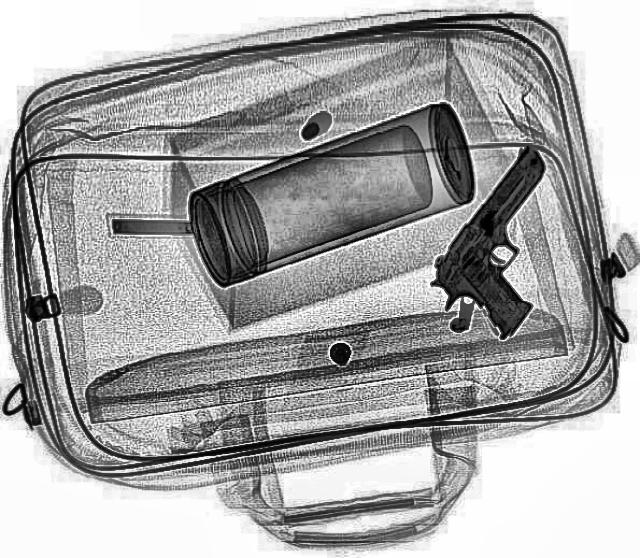Gun: (410, 142, 618, 340)
